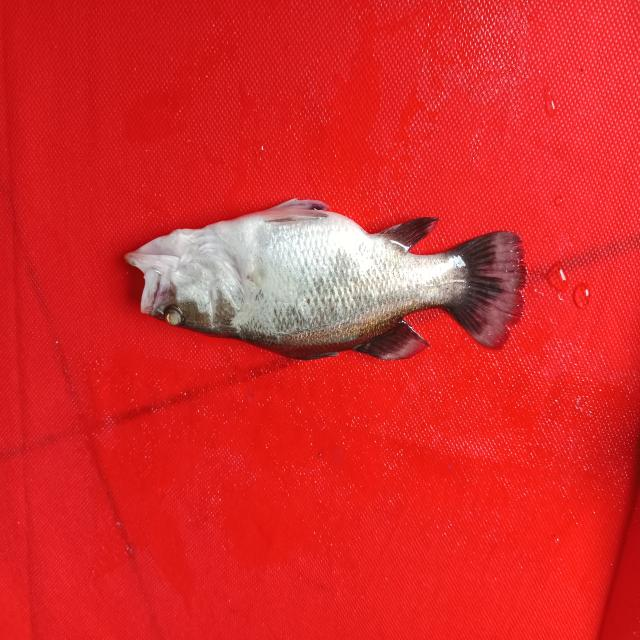ikan: (108, 170, 562, 378)
